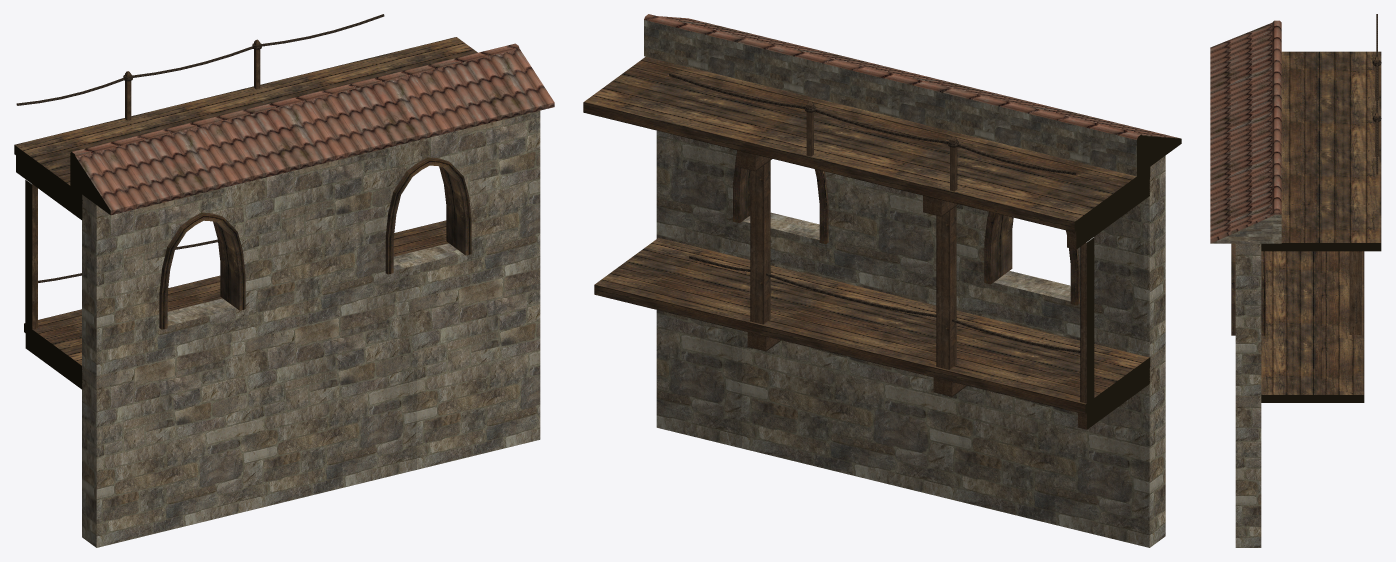
Rendered from FortWallR1.dae.
3 renders of one model, left to right at view 1: azimuth 30°, elevation 25°; view 2: azimuth 150°, elevation 25°; view 3: azimuth 270°, elevation 25°, orthographic. The views are drawn at different scales.
Visible parts, largest first — view 1: forts_stone_sep7-0; view 2: forts_stone_sep7-0; view 3: forts_stone_sep7-0.
Boxes of the visible parts, x1,y1,x2,y2 form: forts_stone_sep7-0: [14, 14, 554, 547]; forts_stone_sep7-0: [583, 14, 1181, 547]; forts_stone_sep7-0: [1210, 14, 1381, 547].
Size of the model in its own units: 10.6 by 8.92 by 3.99.
